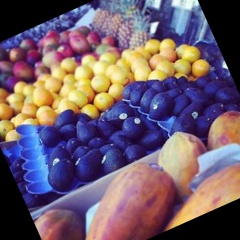Pineapple: (131, 14, 152, 52)
